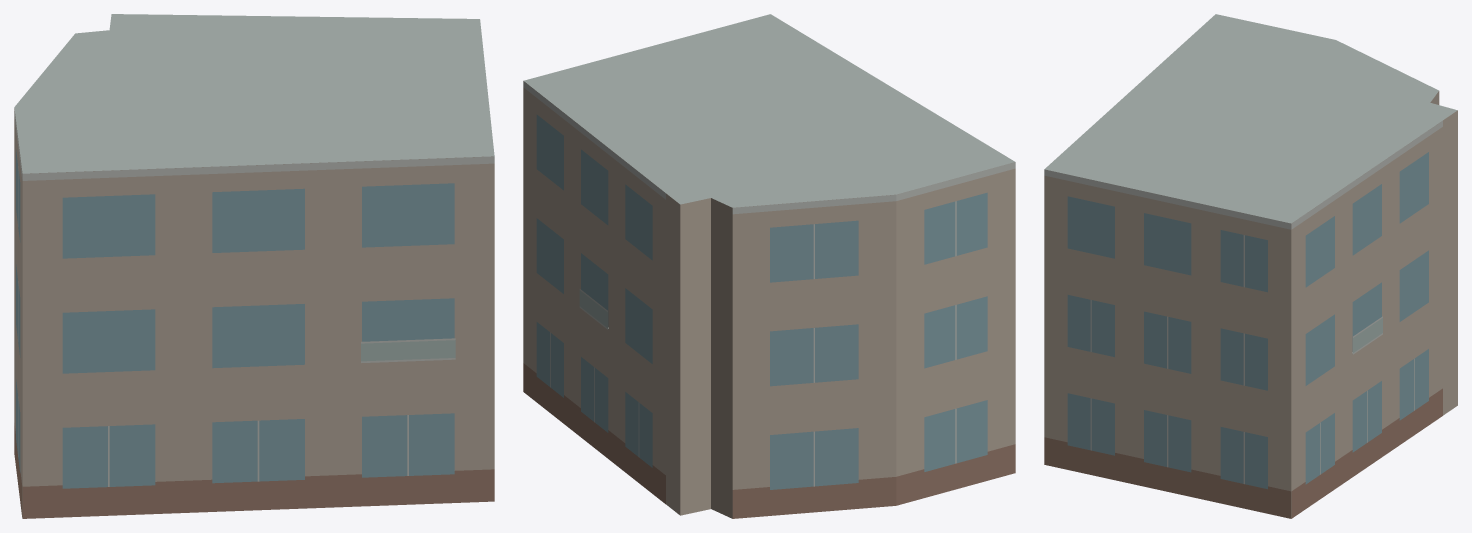
Rendered from survey-upis-32931128.glb.
3 renders of one model, left to right at view 1: azimuth 30°, elevation 25°; view 2: azimuth 150°, elevation 25°; view 3: azimuth 270°, elevation 25°, orthographic. The views are drawn at different scales.
Visible parts, largest first — view 1: survey-upis-32931128.tmp; view 2: survey-upis-32931128.tmp; view 3: survey-upis-32931128.tmp.
Boxes of the visible parts, x1,y1,x2,y2 form: survey-upis-32931128.tmp: (14,14,494,518); survey-upis-32931128.tmp: (523,14,1015,518); survey-upis-32931128.tmp: (1044,14,1457,518).
Bounding box in the file's own units: 17.58 × 11.55 × 14.66.
